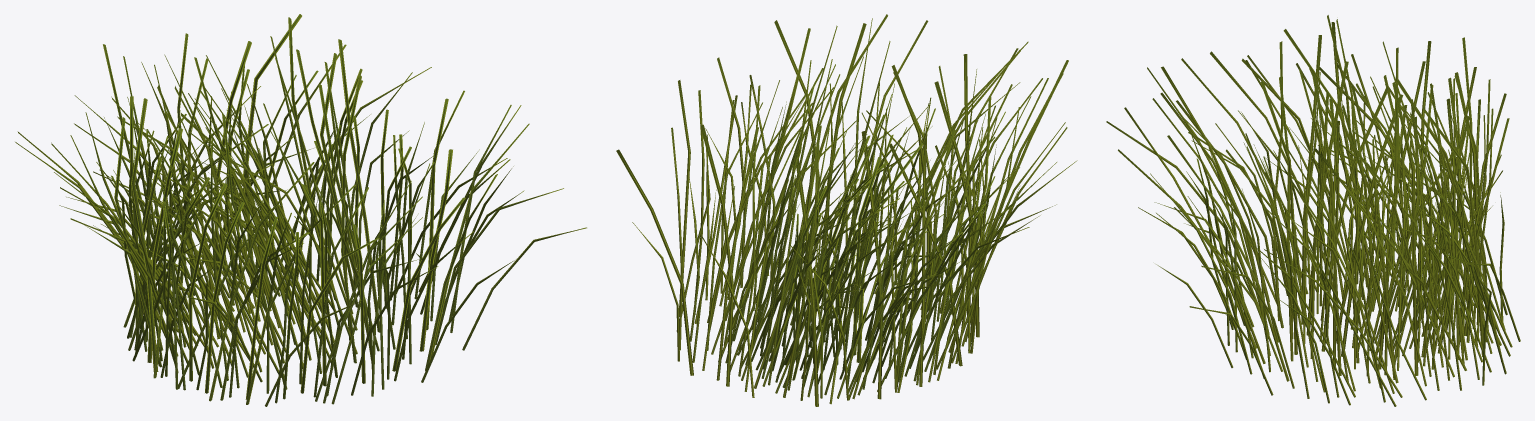
Rendered from grass6.obj.
The picture shows the model from 3 angles, left to right: view 1: azimuth 30°, elevation 25°; view 2: azimuth 150°, elevation 25°; view 3: azimuth 270°, elevation 25°; orthographic projection. The views are drawn at different scales.
Parts seen in each view (by area): view 1: tree; view 2: tree; view 3: tree.
Boxes of the visible parts, x1,y1,x2,y2 form: tree: (15,14,586,406); tree: (616,14,1077,406); tree: (1106,15,1520,406).
Bounding box in the file's own units: 173 × 116 × 156.
Materials: 1 (1 with a texture image).
